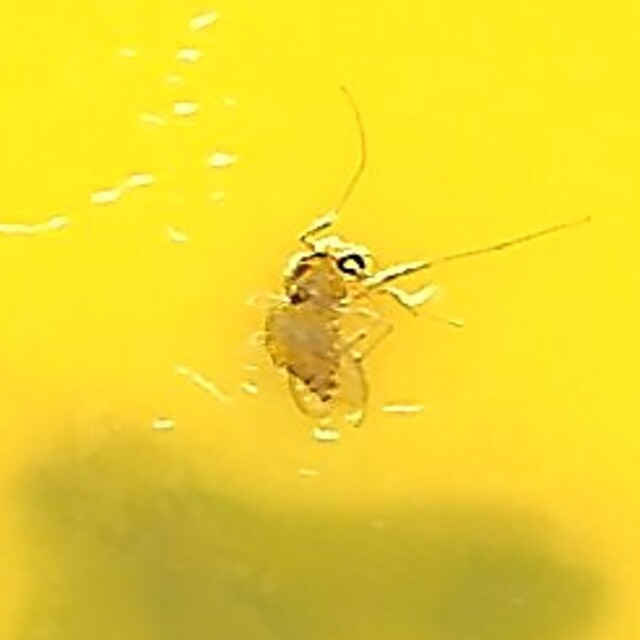Nematocera: (260, 234, 380, 406)
